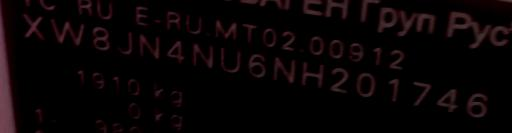letter: (48, 15, 86, 48), (462, 88, 494, 123), (298, 60, 328, 91), (406, 78, 436, 109), (188, 40, 218, 71), (269, 54, 297, 87), (20, 10, 48, 43), (134, 30, 162, 63), (433, 85, 463, 113), (216, 46, 244, 75), (326, 65, 352, 96), (354, 70, 380, 99), (162, 38, 188, 67), (88, 24, 114, 51), (246, 51, 270, 80), (384, 74, 404, 106), (116, 28, 136, 57)
